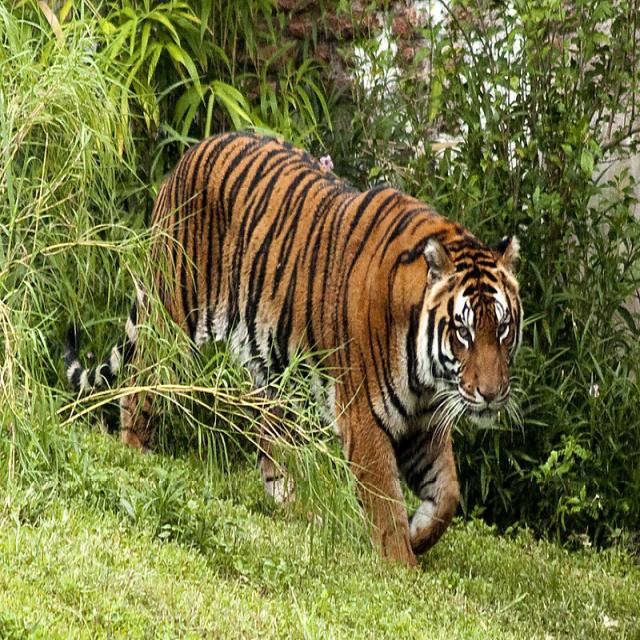Tiger: (97, 121, 535, 574)
